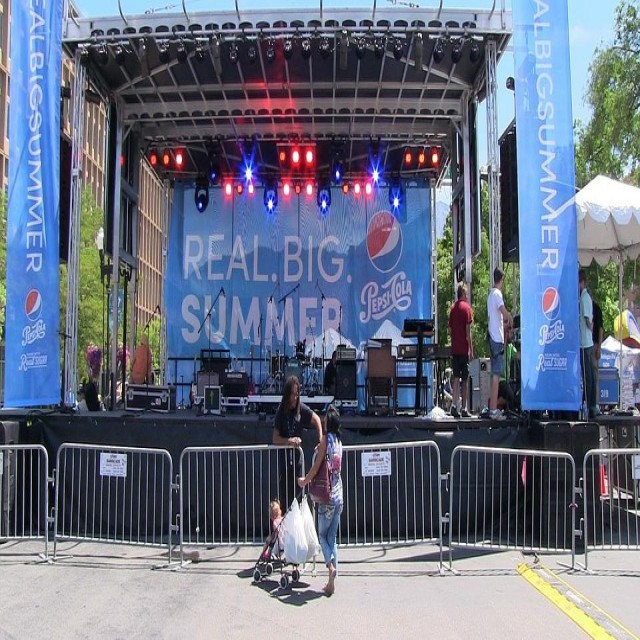pepsi: (366, 204, 405, 275), (541, 286, 564, 323), (24, 286, 44, 324)
